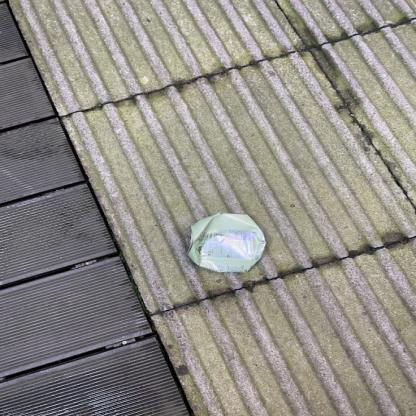trash: (181, 211, 271, 276)
